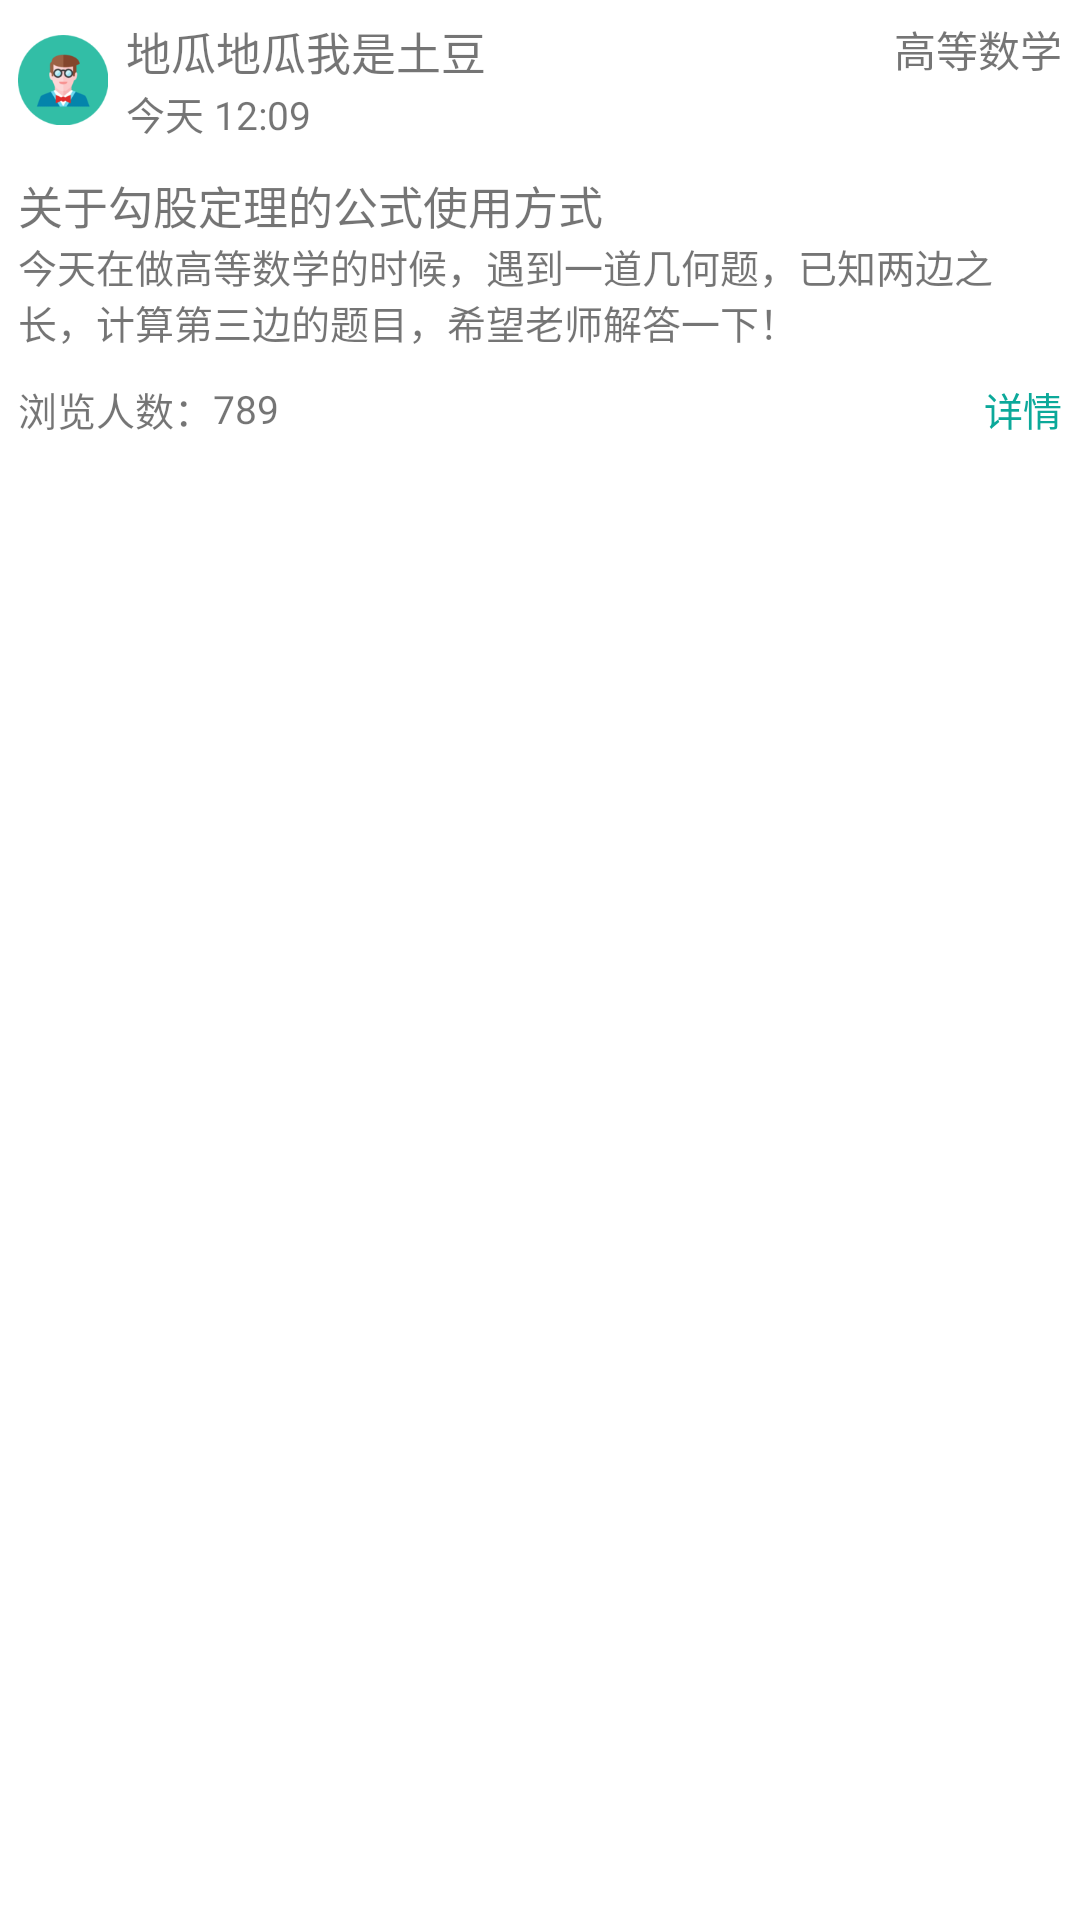

Locate icon controls on the screen. Image size 1080 x 1920, boxes as (left=x1, top=y1, right=x2, bottom=y2).
photo man: (left=18, top=35, right=108, bottom=125)
